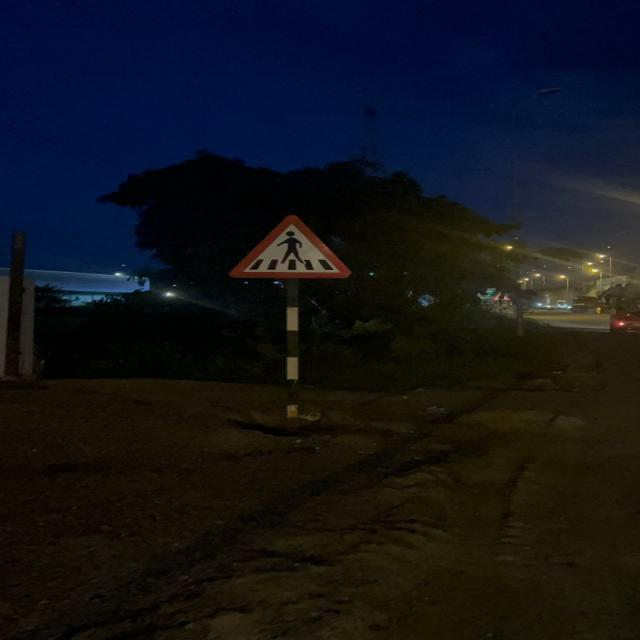pedestrian crossing: (227, 212, 352, 278)
